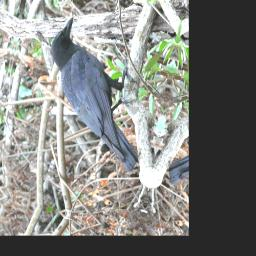Crow: (32, 11, 165, 176)
